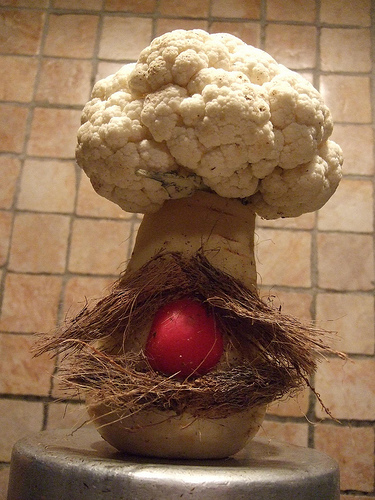cauliflower: (75, 30, 347, 216)
